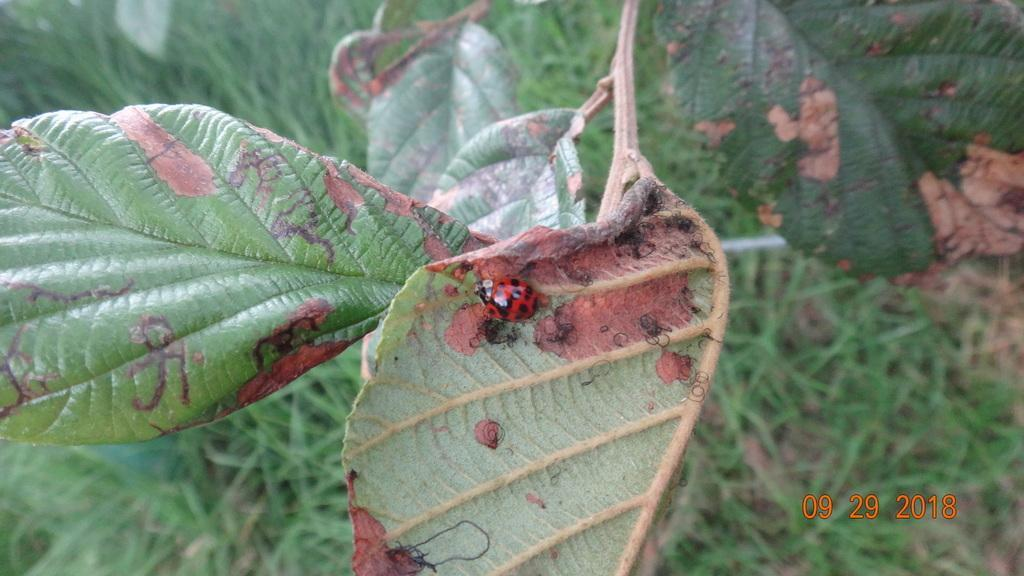ladybug: (470, 274, 545, 326)
